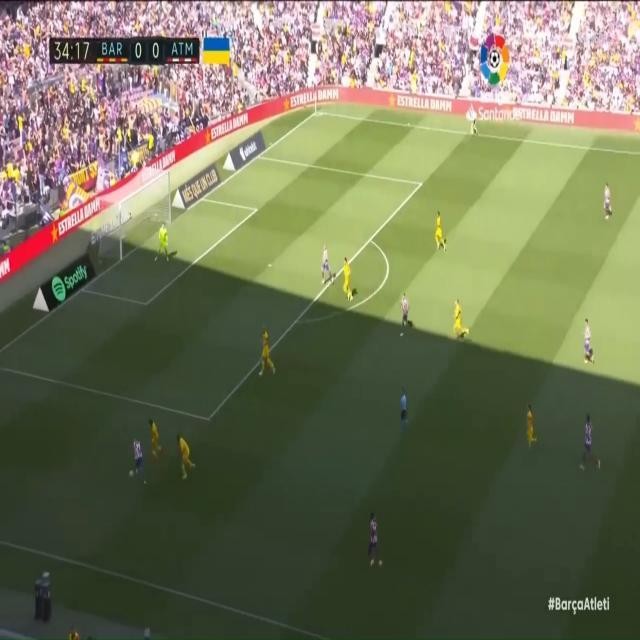ball: (126, 464, 136, 485)
goalkeeper: (152, 218, 171, 270)
player: (357, 500, 385, 574), (571, 392, 595, 470), (448, 284, 472, 356), (123, 428, 147, 496), (254, 316, 277, 379), (176, 427, 199, 483), (399, 274, 417, 339), (145, 411, 166, 466), (524, 391, 542, 452), (580, 313, 598, 369), (320, 242, 337, 292), (600, 174, 616, 226), (430, 205, 447, 253), (339, 256, 356, 301)
referee: (394, 368, 415, 436), (464, 104, 481, 137)
